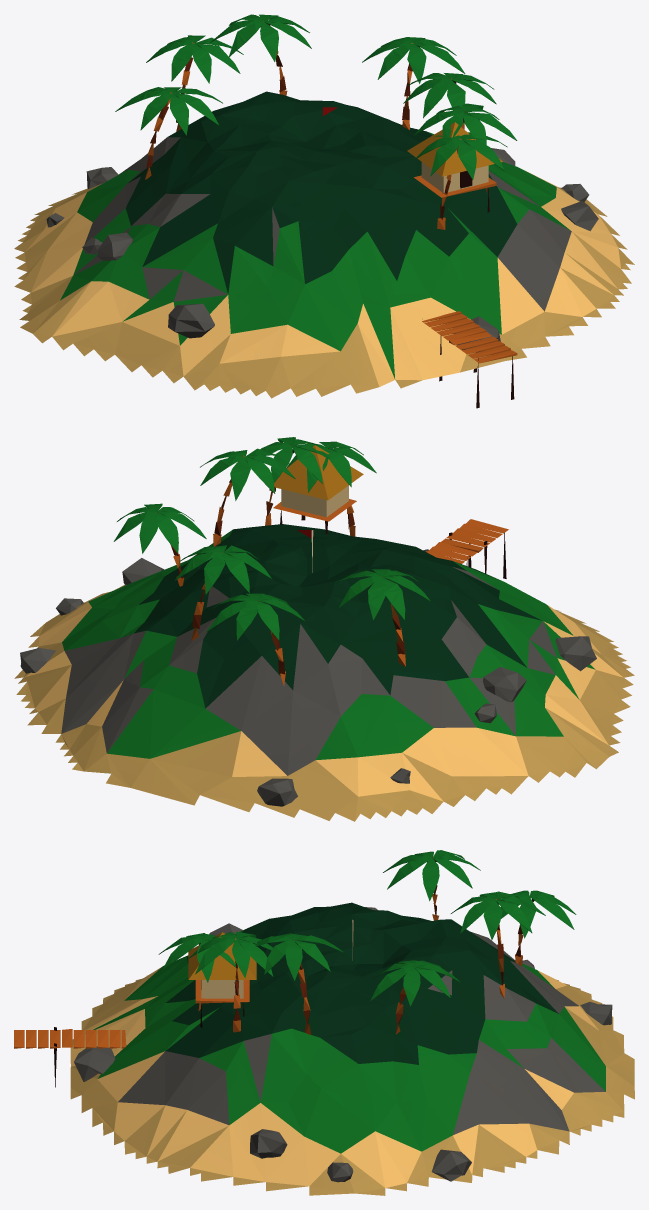
Rendered from turtle_cay.three-web-toon.lod25.glb.
The picture shows the model from 3 angles, top to bottom: view 1: azimuth 30°, elevation 25°; view 2: azimuth 150°, elevation 25°; view 3: azimuth 270°, elevation 25°; orthographic projection. The views are drawn at different scales.
Parts seen in each view (by area): view 1: turtle_cay_mesh_lod; view 2: turtle_cay_mesh_lod; view 3: turtle_cay_mesh_lod.
Part boxes in pixels (x1,y1,x2,y2): turtle_cay_mesh_lod: [14, 14, 634, 408]; turtle_cay_mesh_lod: [14, 437, 634, 821]; turtle_cay_mesh_lod: [14, 850, 634, 1195].
Size of the model in its own units: 32.07 by 11.01 by 32.18.
